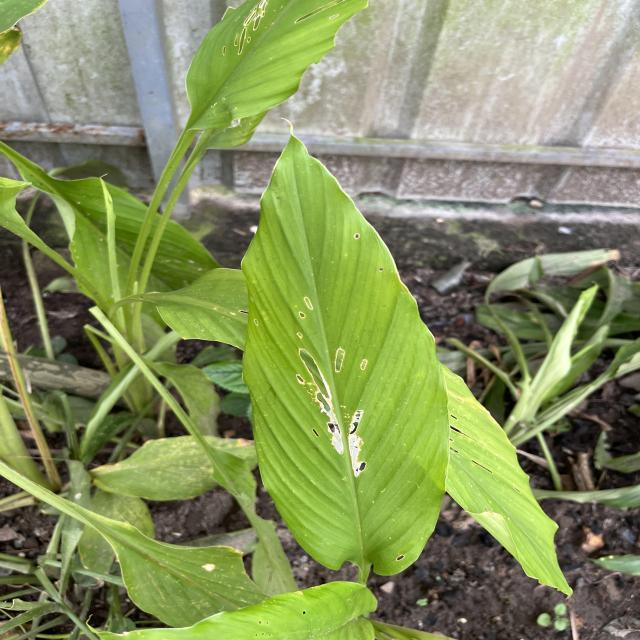Curcuma longa: (235, 112, 454, 579)
